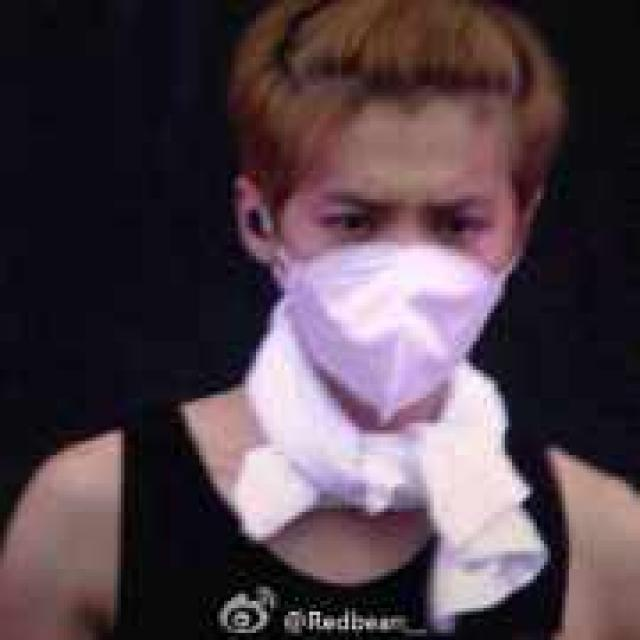mask: (276, 91, 514, 400)
